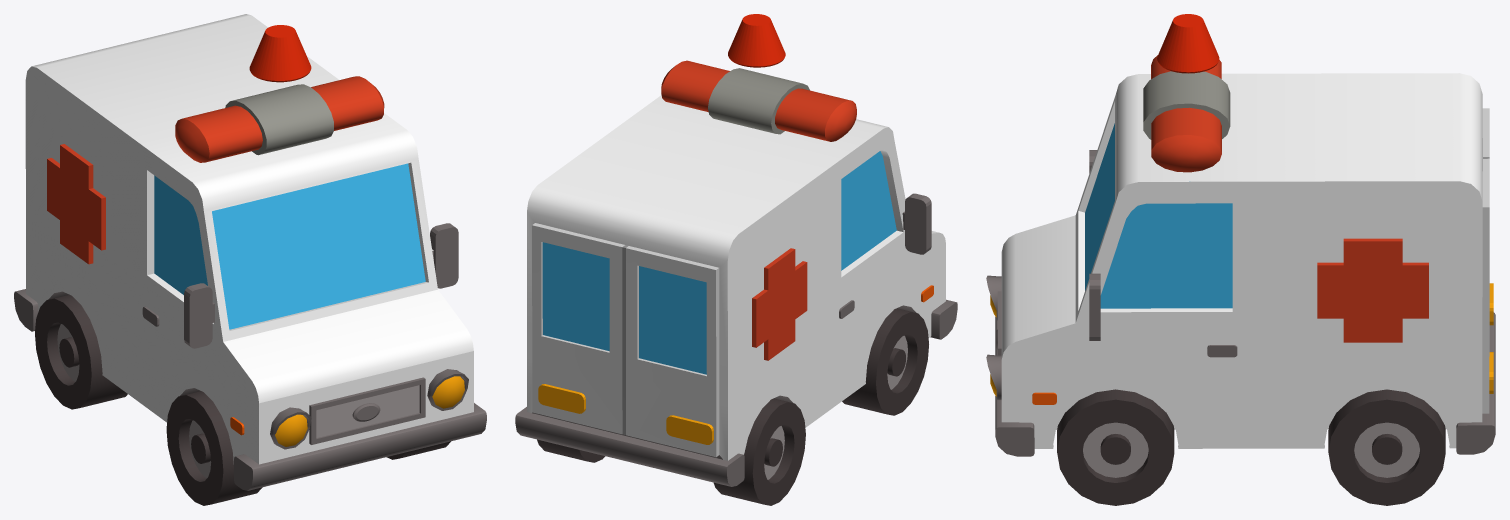
The model's file is ambulance.glb.
The picture shows the model from 3 angles, left to right: view 1: azimuth 30°, elevation 25°; view 2: azimuth 150°, elevation 25°; view 3: azimuth 270°, elevation 25°; orthographic projection. The views are drawn at different scales.
Parts seen in each view (by area): view 1: Mesh-Ambulance.2_1.001, Cone; view 2: Mesh-Ambulance.2_1.001, Cone; view 3: Mesh-Ambulance.2_1.001, Cone.
Part boxes in pixels (bbox=[...]): Mesh-Ambulance.2_1.001: bbox=[14, 14, 486, 505]; Cone: bbox=[249, 25, 311, 82]; Mesh-Ambulance.2_1.001: bbox=[515, 60, 957, 505]; Cone: bbox=[728, 14, 785, 67]; Mesh-Ambulance.2_1.001: bbox=[986, 55, 1495, 505]; Cone: bbox=[1157, 14, 1219, 73].
Size of the model in its own units: 0.8007 by 1.18 by 1.27.
Materials: 2 (1 with a texture image).
